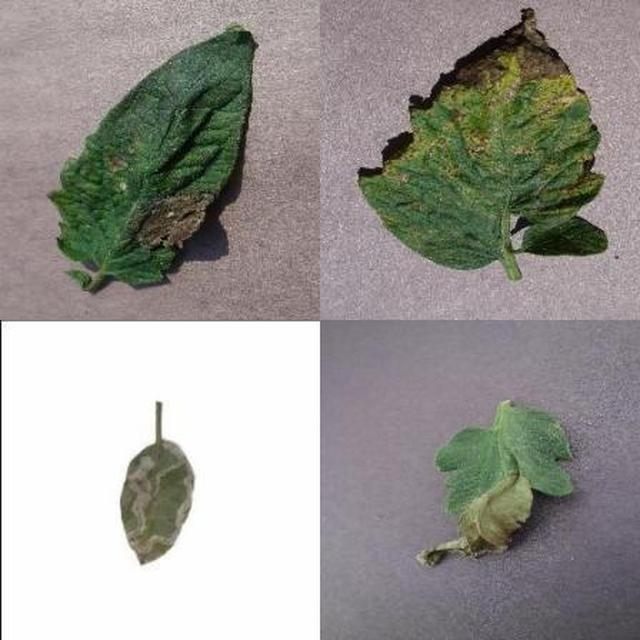Late Blight Leaf: (104, 181, 640, 640)
